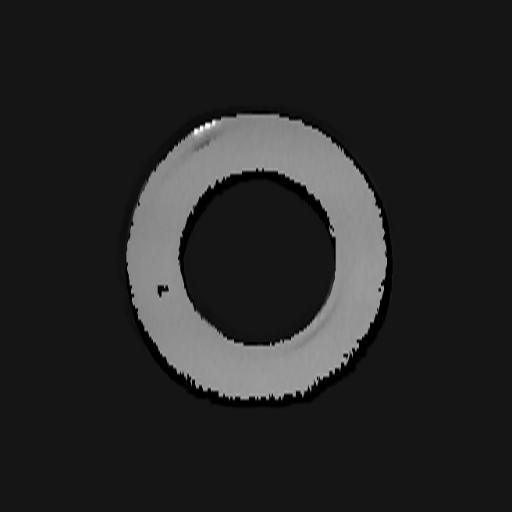defect: (156, 283, 170, 300)
